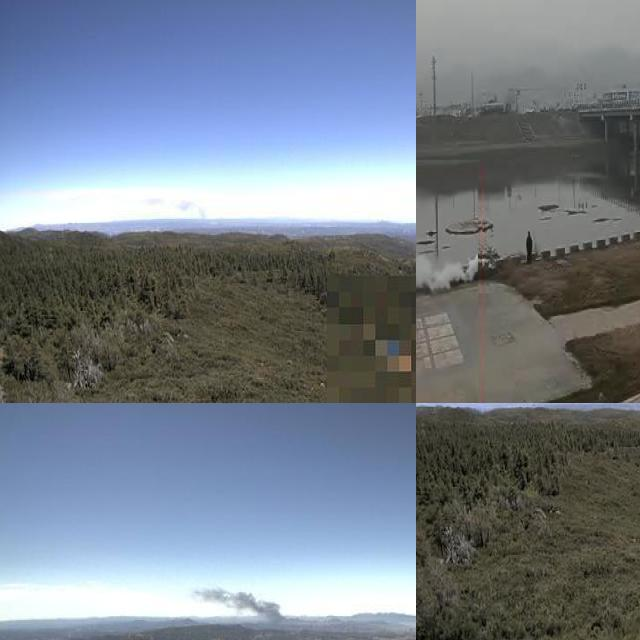smoke: (189, 583, 286, 624), (416, 246, 478, 302), (149, 198, 206, 223)
